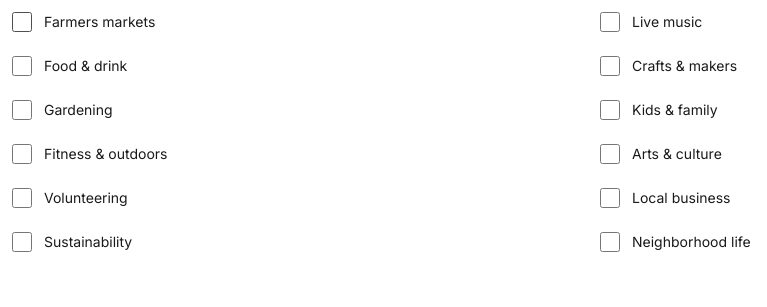
#892 — interests on You › puts the choice back and says so when the save fails
Click the checkbox labelled "Arts & culture" at [610, 154], box x1=600 y1=144 x2=620 y2=164
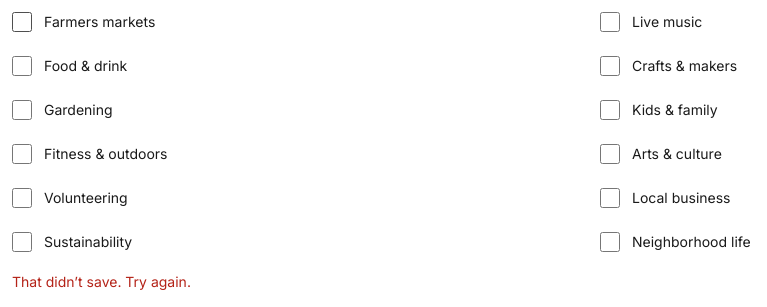
Result: the message reads "That didn’t save. Try again." at x1=12 y1=273 x2=191 y2=290
